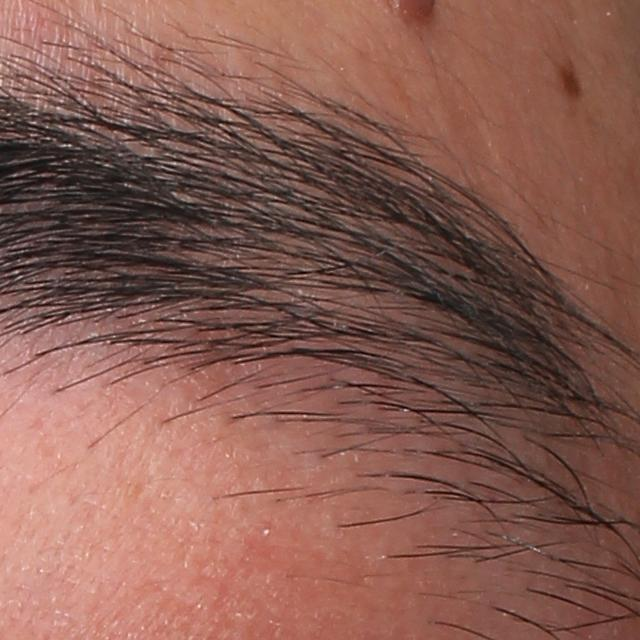nevus: (554, 60, 582, 104)
